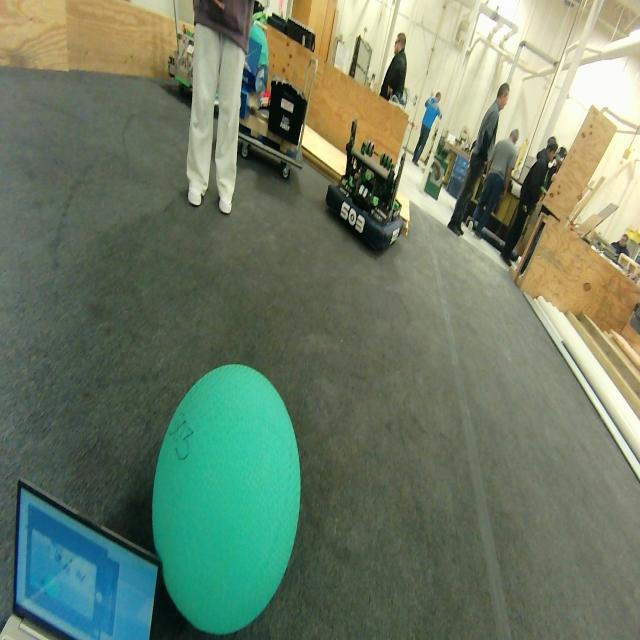algae: (152, 364, 300, 635)
